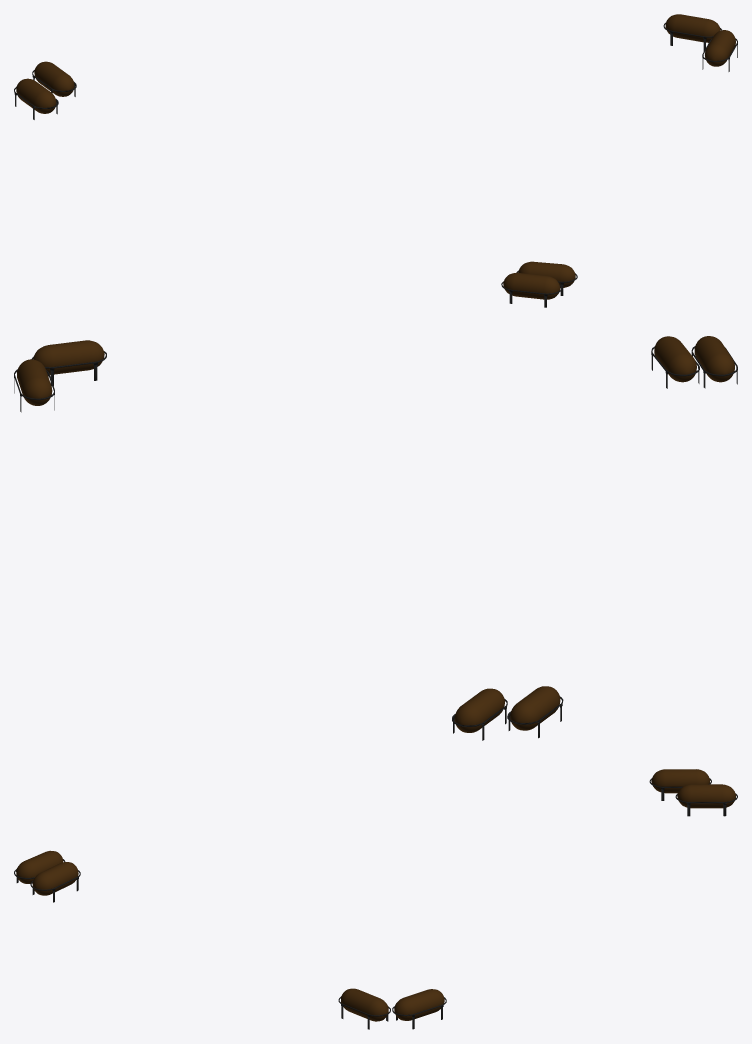
File: buildingType3.fbx
3 views of the same model, one above another, from view 1: azimuth 30°, elevation 25°; view 2: azimuth 150°, elevation 25°; view 3: azimuth 270°, elevation 25° (orthographic). The views are drawn at different scales.
Visible parts, largest first — view 1: buildingType3; view 2: buildingType3; view 3: buildingType3.
Boxes of the visible parts, x1,y1,x2,y2 form: buildingType3: (14,14,737,307); buildingType3: (14,336,737,740); buildingType3: (14,769,737,1029).
Bounding box in the file's own units: 54.31 × 5.47 × 60.38.
